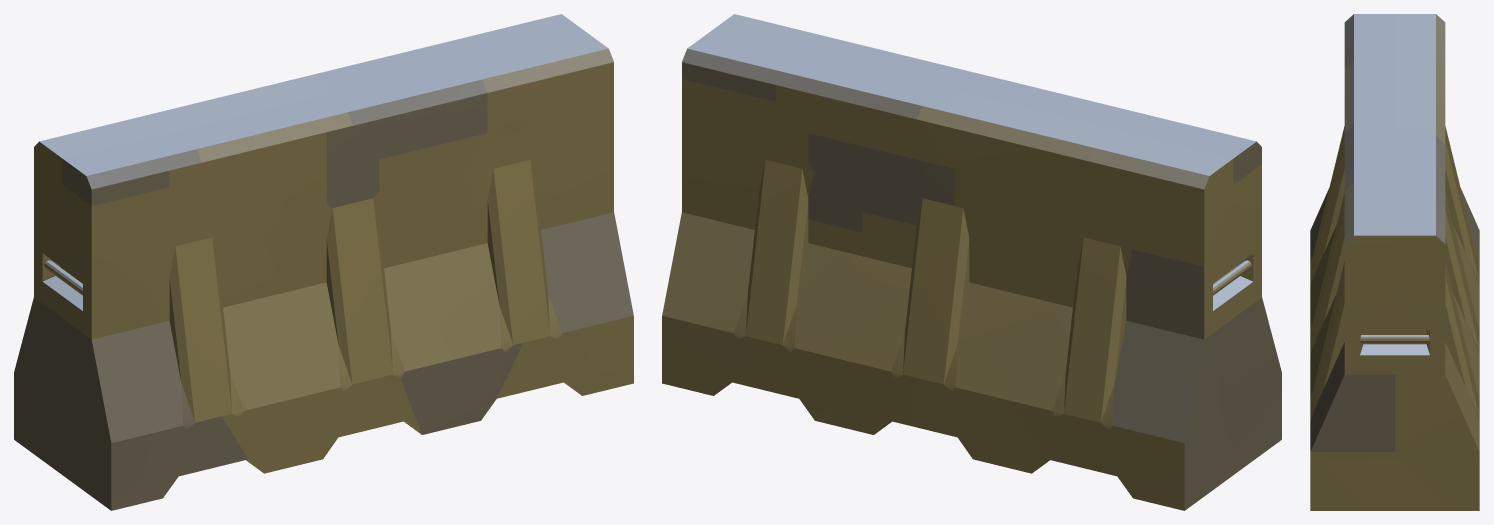
Rendered from barrier_plastic.glb.
The picture shows the model from 3 angles, left to right: view 1: azimuth 30°, elevation 25°; view 2: azimuth 150°, elevation 25°; view 3: azimuth 270°, elevation 25°; orthographic projection. The views are drawn at different scales.
Visible parts, largest first — view 1: Prop; view 2: Prop; view 3: Prop.
Boxes of the visible parts, x1,y1,x2,y2 form: Prop: [14, 14, 633, 510]; Prop: [662, 14, 1281, 510]; Prop: [1310, 14, 1479, 510].
Bounding box in the file's own units: 1.38 × 0.8 × 0.4455.
